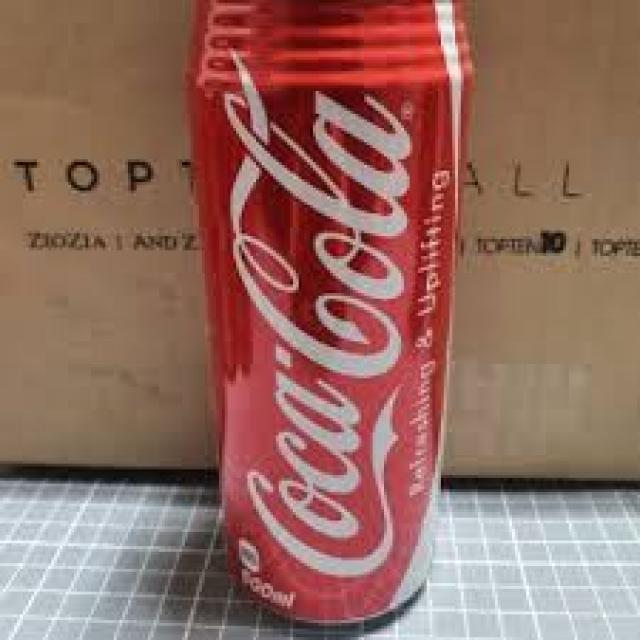coca-cola: (180, 15, 480, 632)
